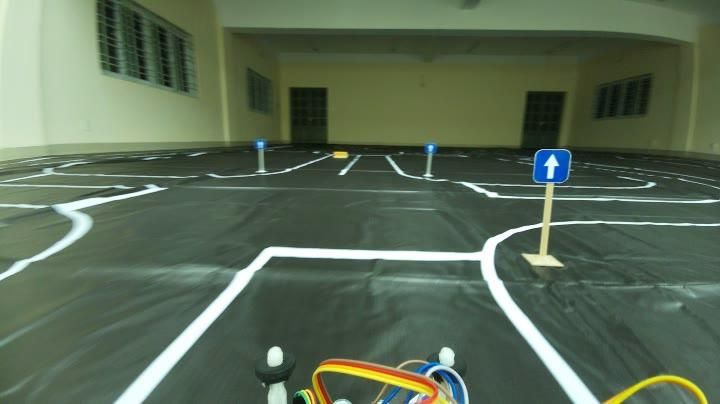onewayroad: (528, 150, 571, 187), (425, 142, 437, 154), (252, 137, 264, 145)
roadblock: (334, 149, 351, 161)
